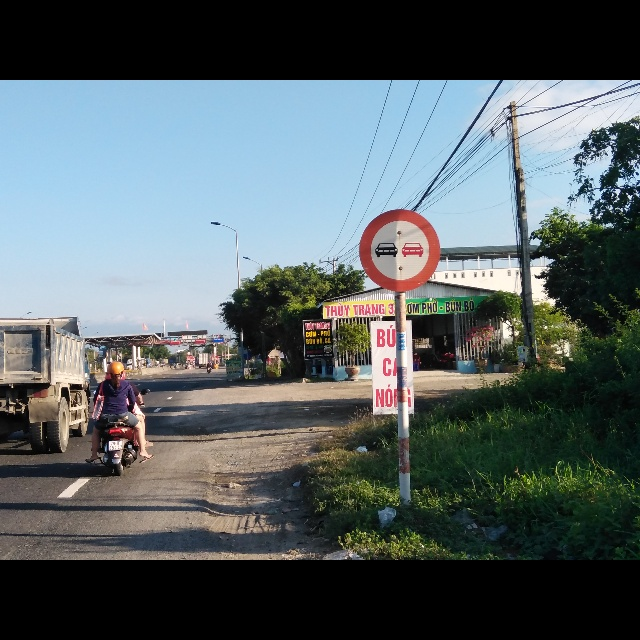Cấm vượt: (356, 205, 441, 289)
